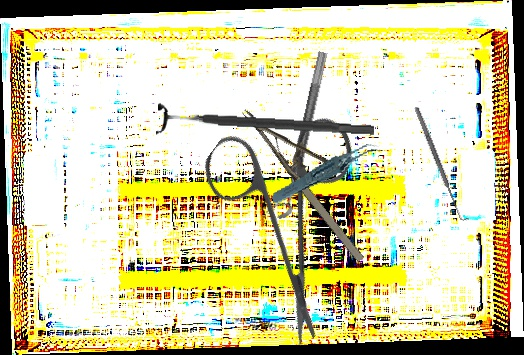Fixation Ring: (265, 47, 329, 222), (156, 101, 375, 148)
Hook Surgical: (412, 104, 470, 224)
Iris Scissors: (149, 72, 425, 351)
Needle Holder: (241, 86, 389, 266)
Tissue Forceps: (265, 141, 388, 206)
